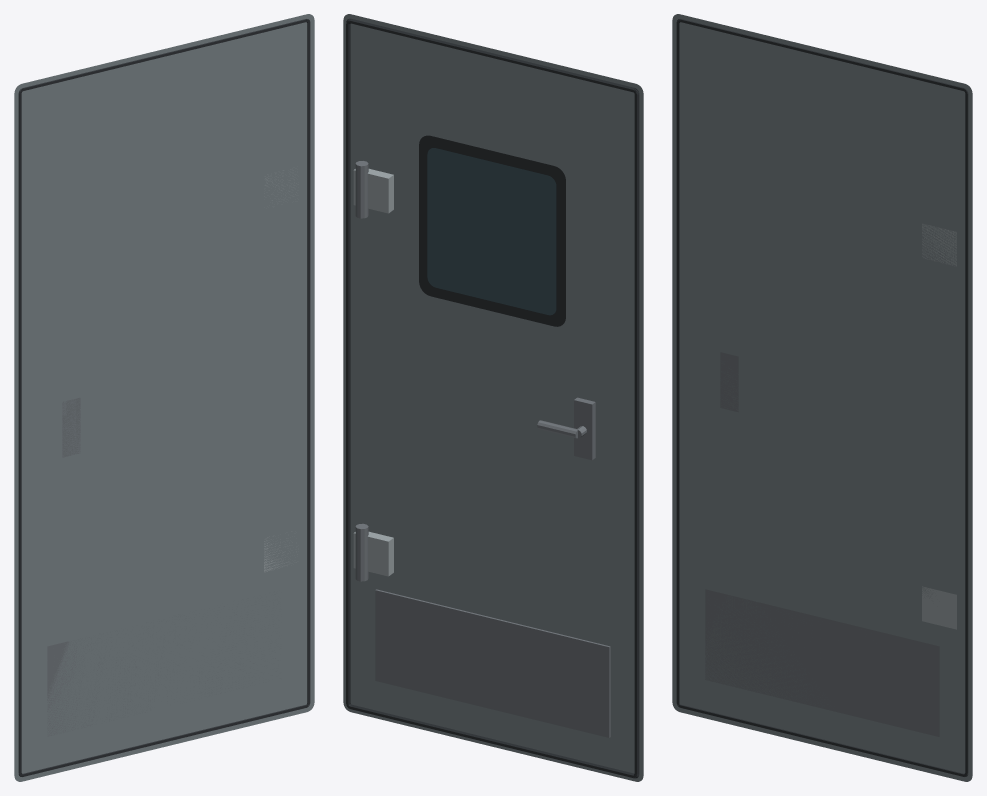
3 renders of one model, left to right at view 1: azimuth 30°, elevation 25°; view 2: azimuth 150°, elevation 25°; view 3: azimuth 330°, elevation 25°, orthographic.
Parts seen in each view (by area): view 1: component.root.mesh, component.surface-relief.mesh; view 2: component.root.mesh, component.surface-relief.mesh; view 3: component.root.mesh, component.surface-relief.mesh.
Boxes of the visible parts, left/top/right/bottom form: component.root.mesh: left=14, top=14, right=314, bottom=781; component.surface-relief.mesh: left=18, top=19, right=310, bottom=776; component.root.mesh: left=343, top=14, right=643, bottom=781; component.surface-relief.mesh: left=346, top=18, right=639, bottom=778; component.root.mesh: left=672, top=14, right=972, bottom=781; component.surface-relief.mesh: left=676, top=19, right=968, bottom=776.
Size of the model in its own units: 0.9 by 2 by 0.0585.
